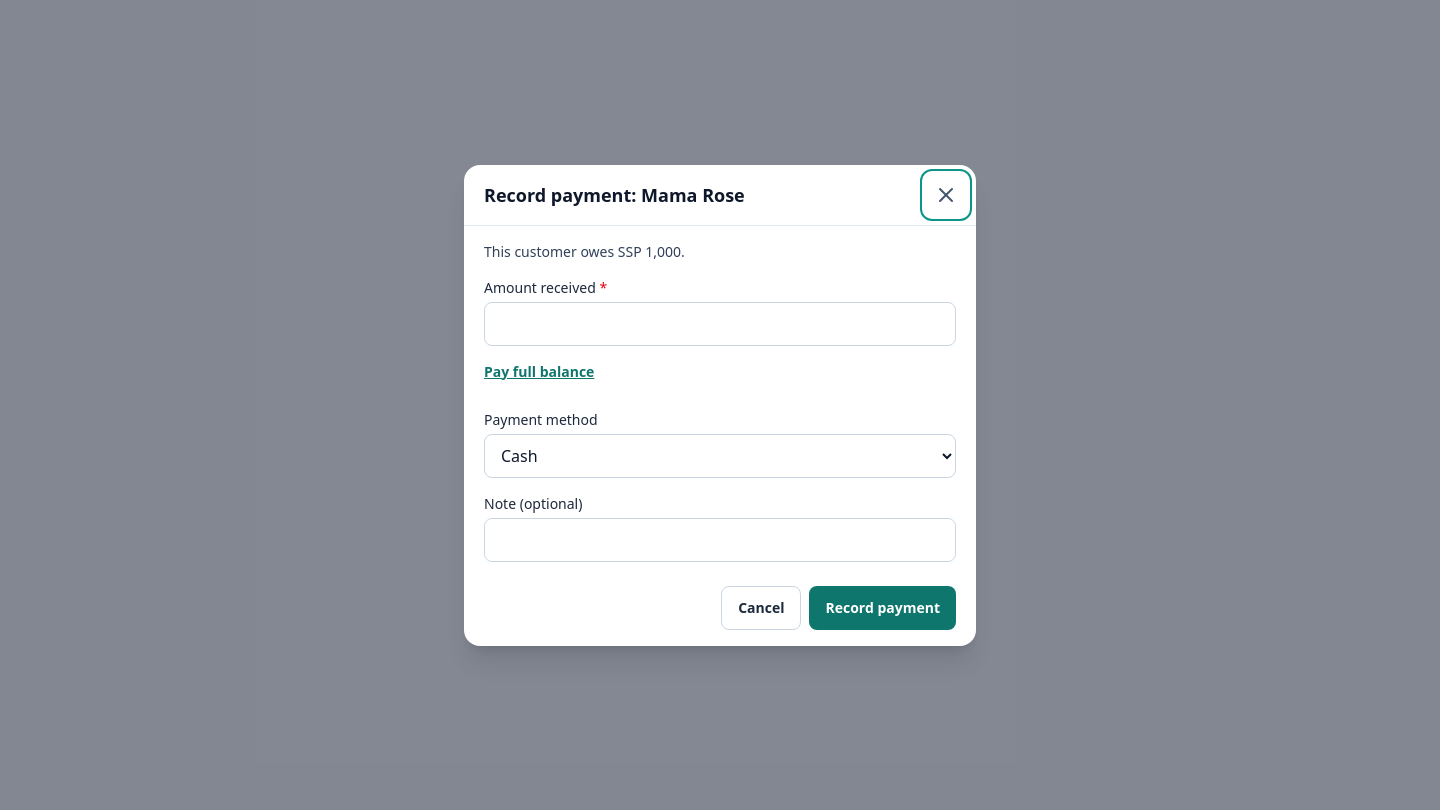
Test case: RecordPaymentModal › refuses an empty or zero amount
Click the button "Record payment".
click(883, 608)  # box [810, 586, 956, 630]
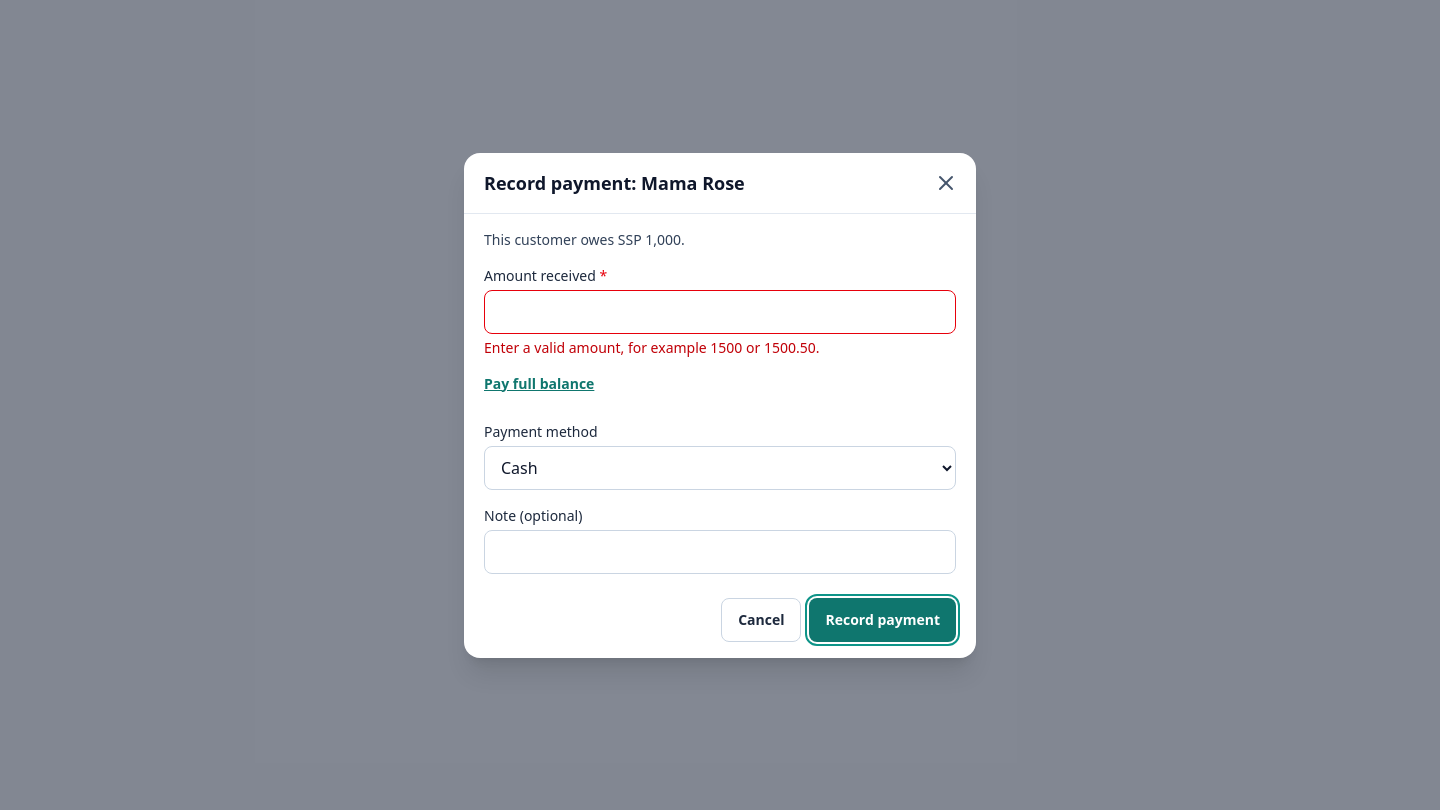
Check: the text "Enter a valid amount, for example 1500 or 1500.50." is shown, box [484, 338, 820, 356]
